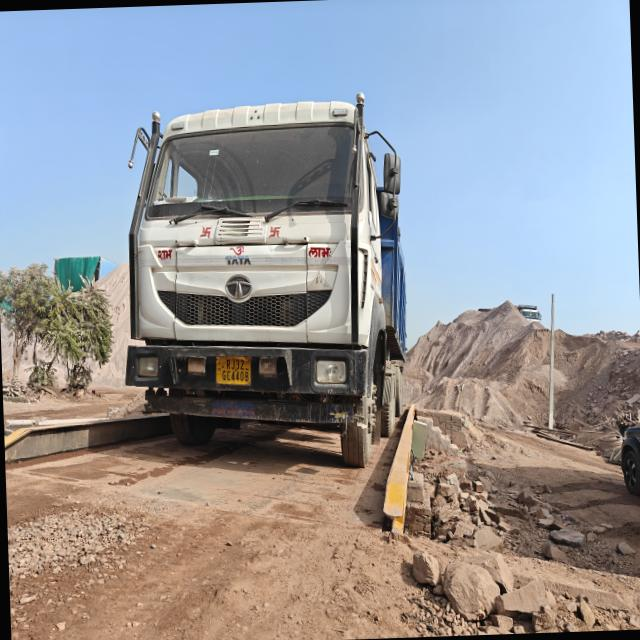license_plate: (217, 357, 251, 384)
